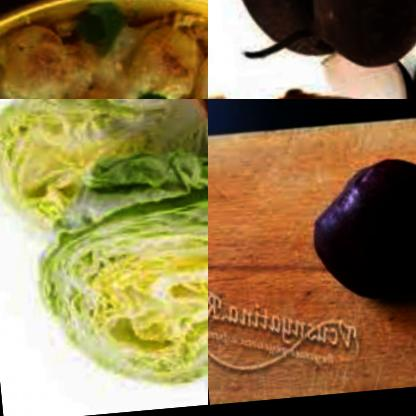beet: (289, 150, 416, 310)
cayliflower: (0, 9, 208, 99)
redka: (223, 0, 385, 66), (288, 0, 416, 79)
salad: (19, 148, 208, 404), (0, 99, 208, 242)
